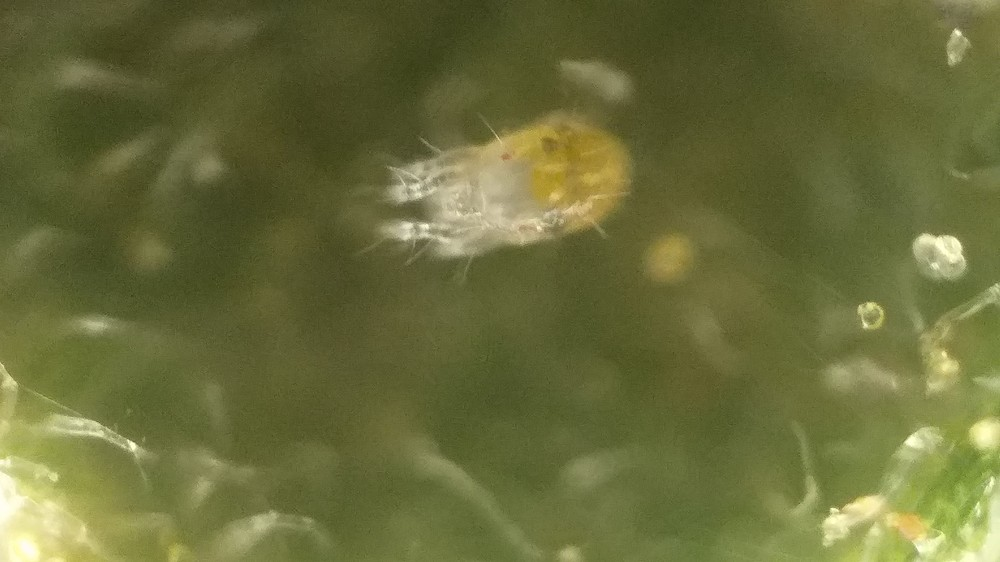Aracnido Rojo: (358, 94, 655, 297)
